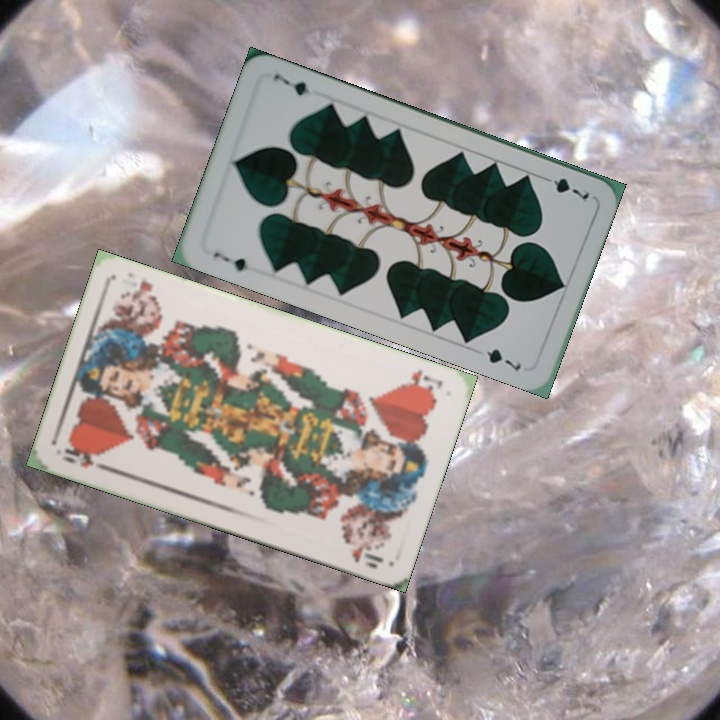G7: (537, 172, 593, 203), (210, 247, 257, 275)
HO: (58, 443, 114, 475), (397, 366, 446, 397)
